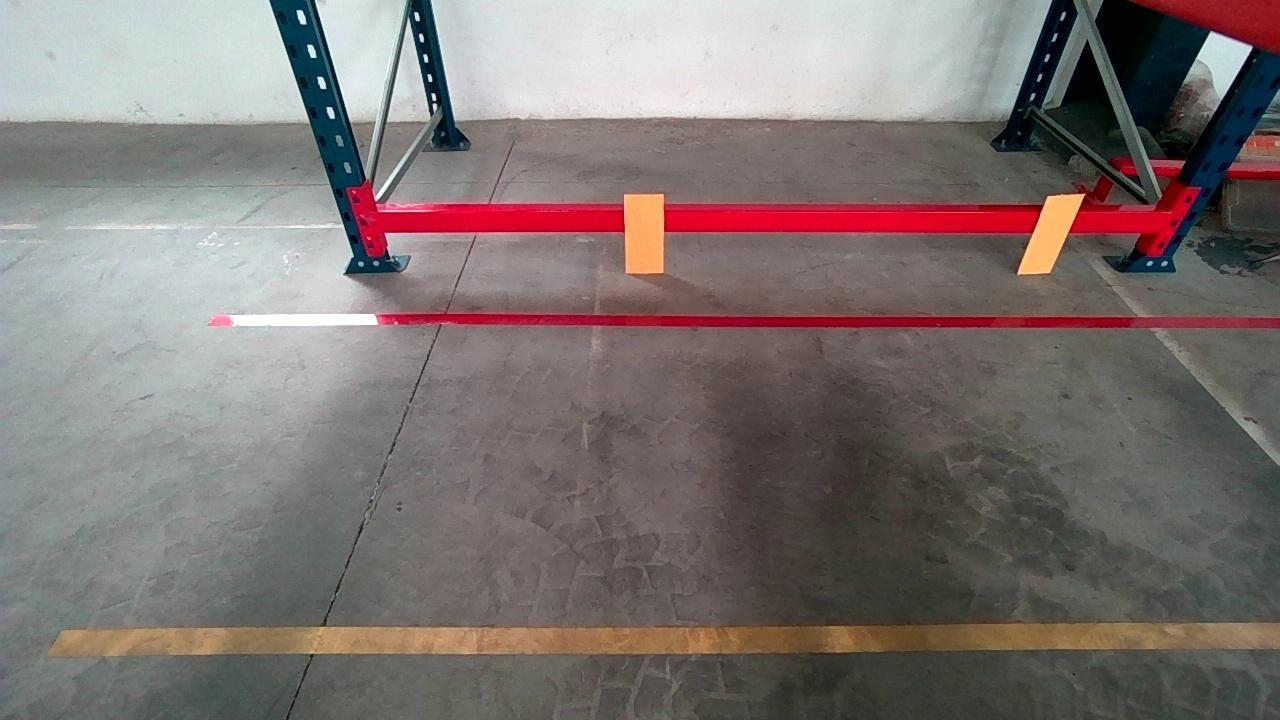h_rack: (385, 198, 1162, 238)
orange_strip: (1018, 193, 1085, 272), (625, 192, 665, 272)
red_line: (221, 310, 1253, 332)
yellow_line: (90, 615, 1275, 662)
